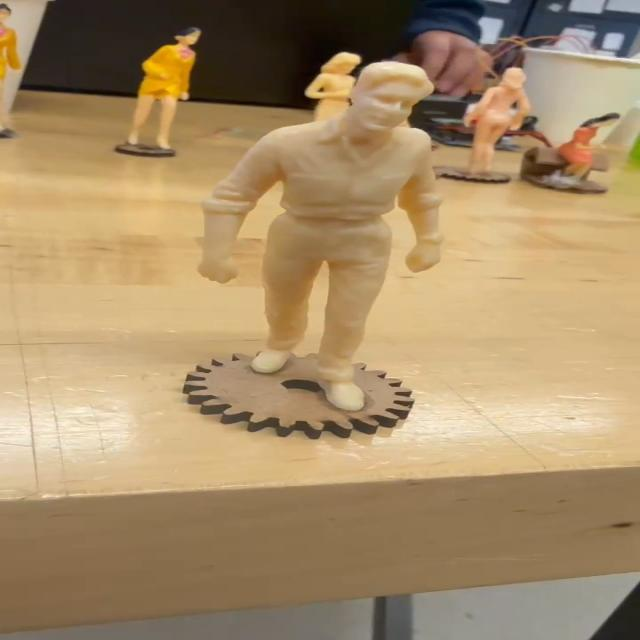Unauthorized: (190, 55, 452, 425)
